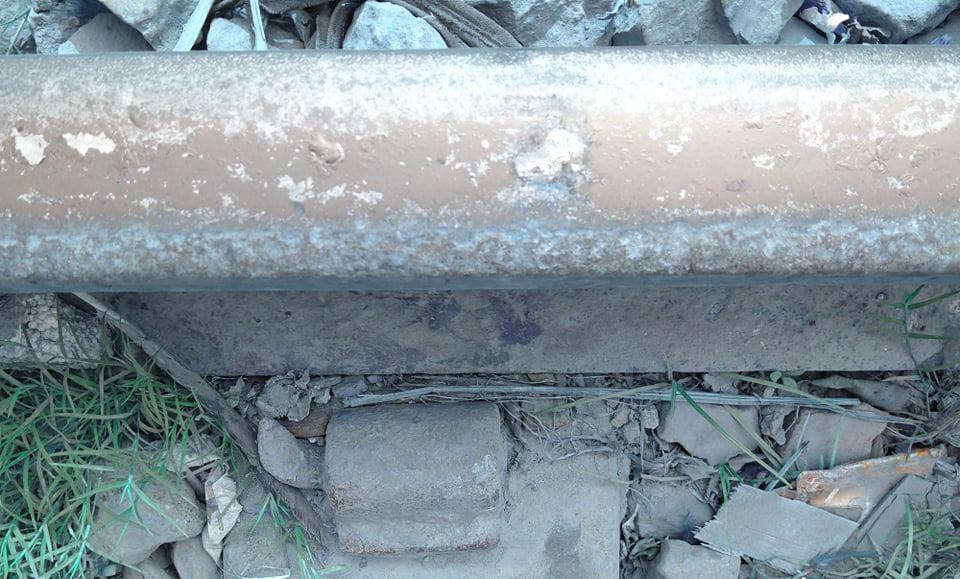loss: (327, 369, 528, 564)
